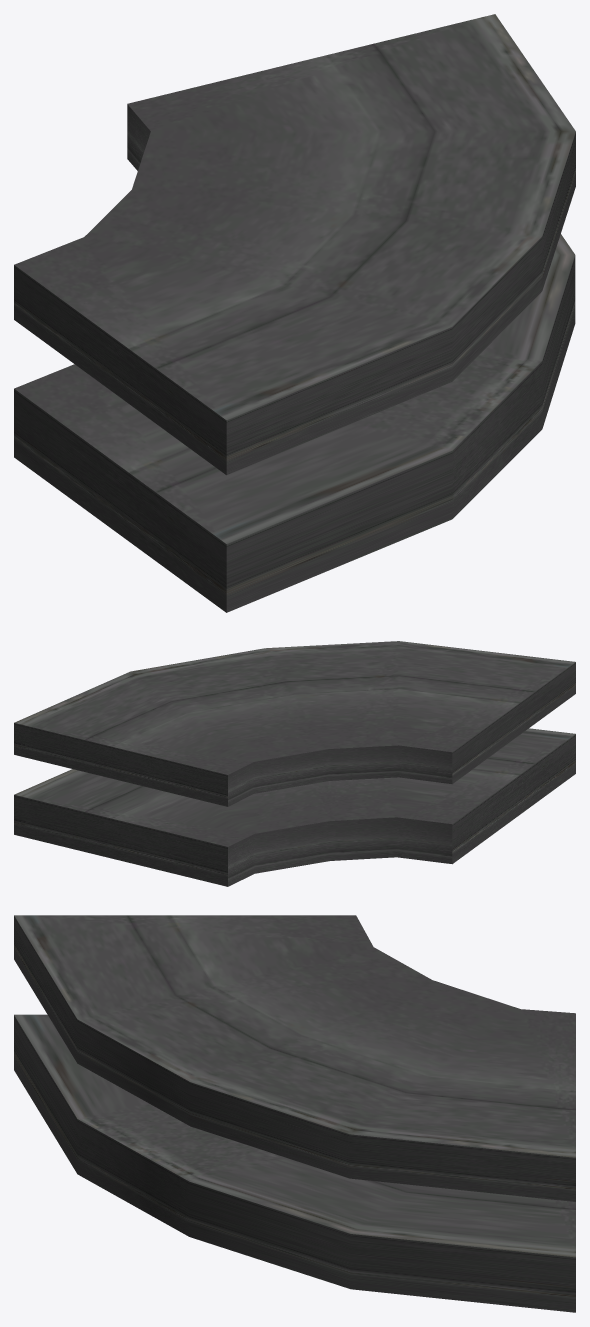
The model's file is p6_wire_trellis_wire_90_bend_lod2.glb.
3 renders of one model, top to bottom at view 1: azimuth 30°, elevation 25°; view 2: azimuth 150°, elevation 25°; view 3: azimuth 270°, elevation 25°, orthographic. The views are drawn at different scales.
Parts seen in each view (by area): view 1: surf0; view 2: surf0; view 3: surf0.
Boxes of the visible parts, x1,y1,x2,y2 form: surf0: (14, 14, 575, 612); surf0: (14, 641, 575, 886); surf0: (14, 915, 575, 1312).
Bounding box in the file's own units: 47 × 14 × 46.
